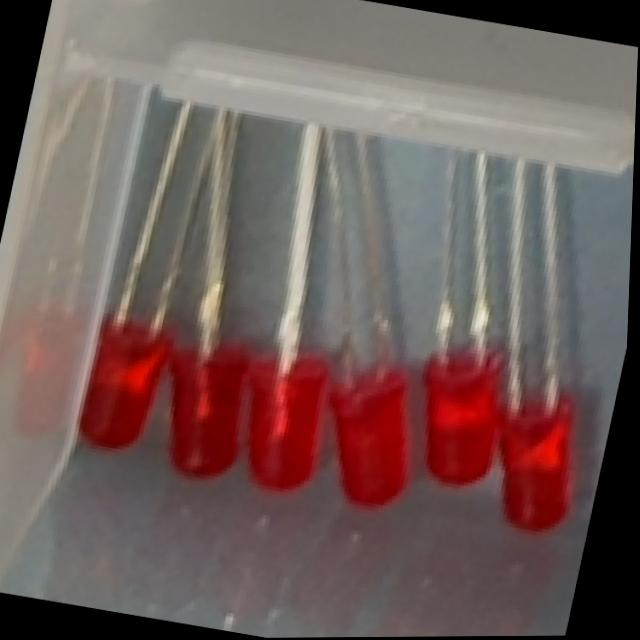RED_LED: (248, 103, 487, 521), (438, 123, 635, 539), (126, 81, 315, 493), (363, 120, 564, 490), (63, 75, 227, 469), (230, 110, 390, 502)
